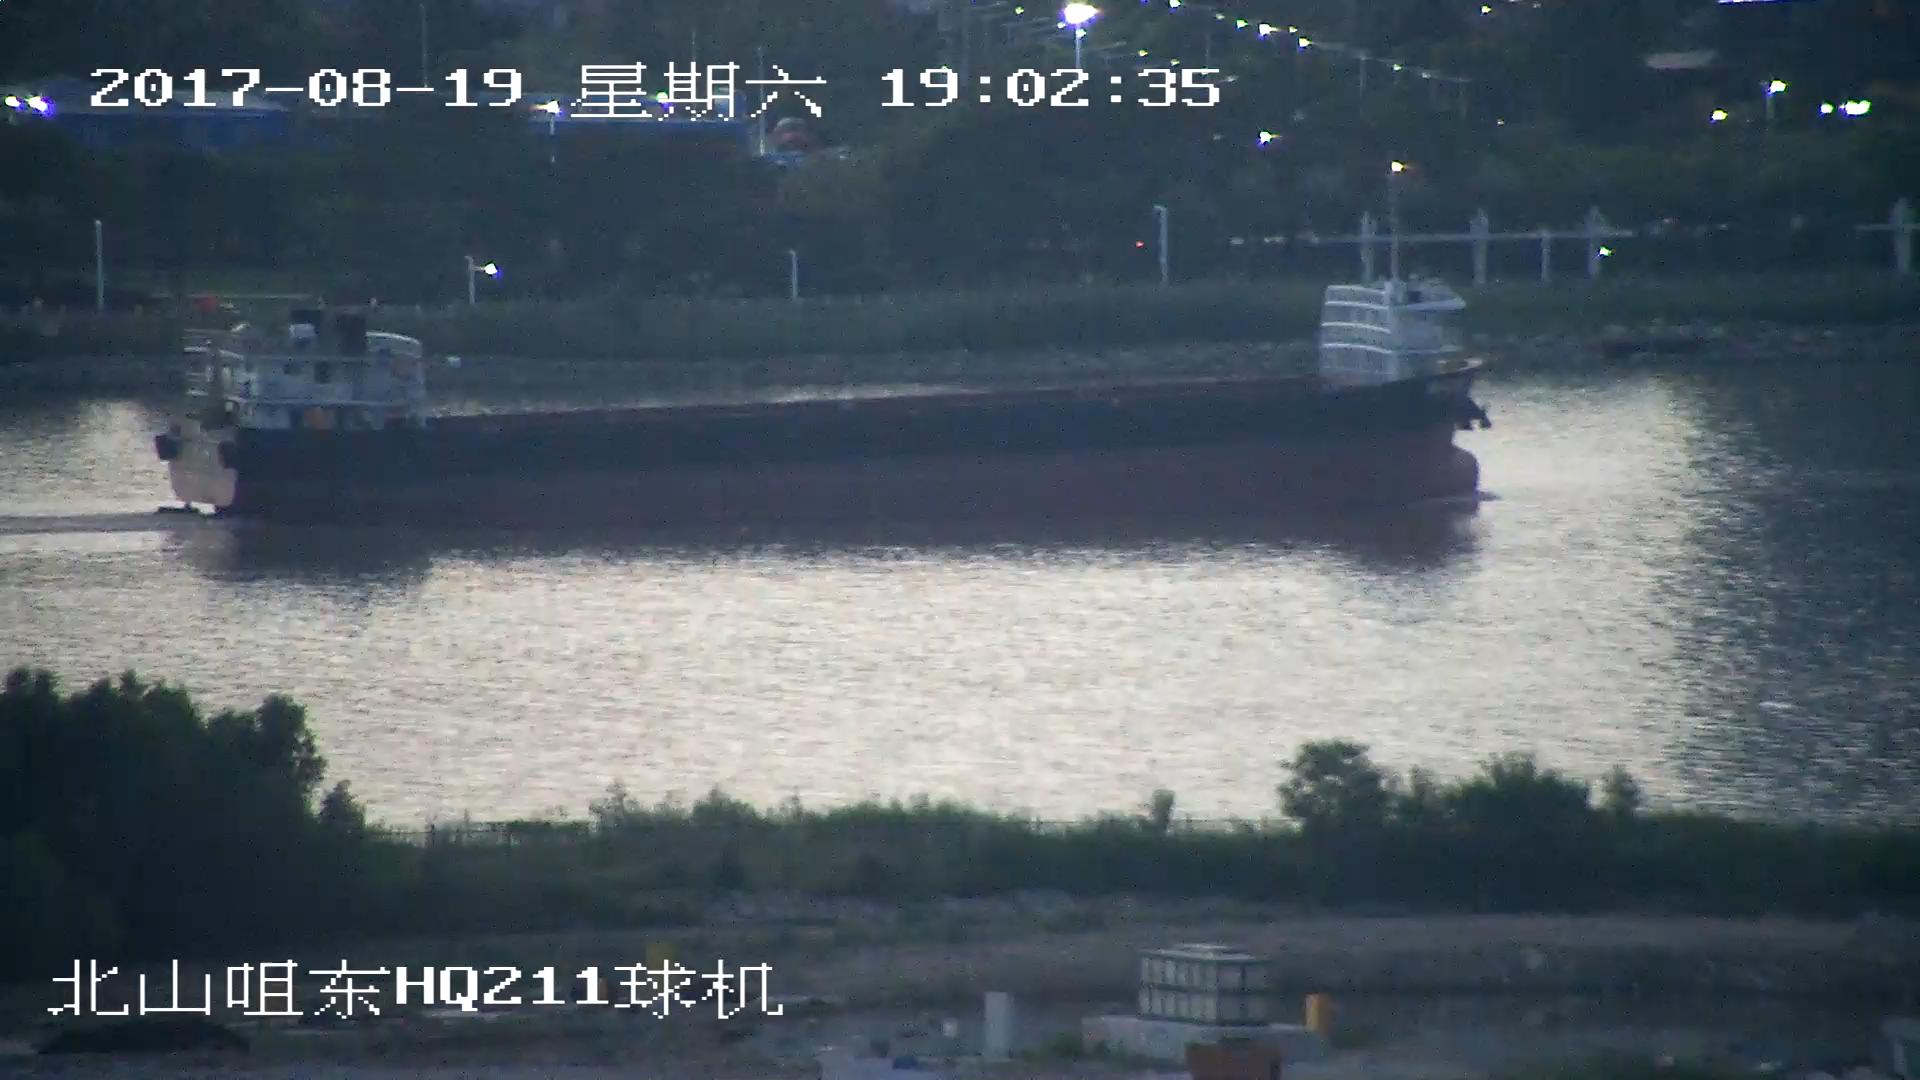general cargo ship: (162, 256, 1487, 519)
